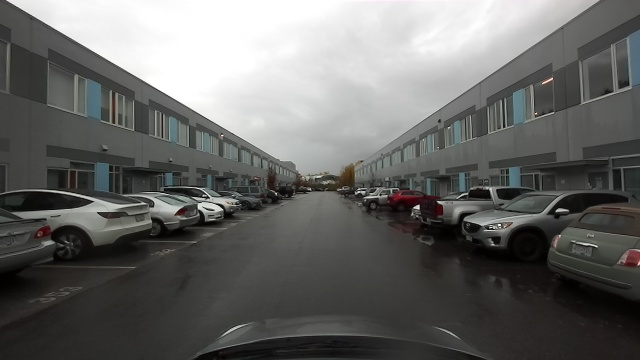car: (544, 203, 637, 296), (51, 191, 152, 251), (462, 212, 540, 265), (156, 196, 200, 236), (419, 197, 460, 229), (365, 185, 414, 209), (231, 184, 263, 209), (202, 201, 228, 225), (265, 188, 284, 204), (339, 186, 357, 197), (282, 186, 295, 199), (297, 185, 306, 194)
